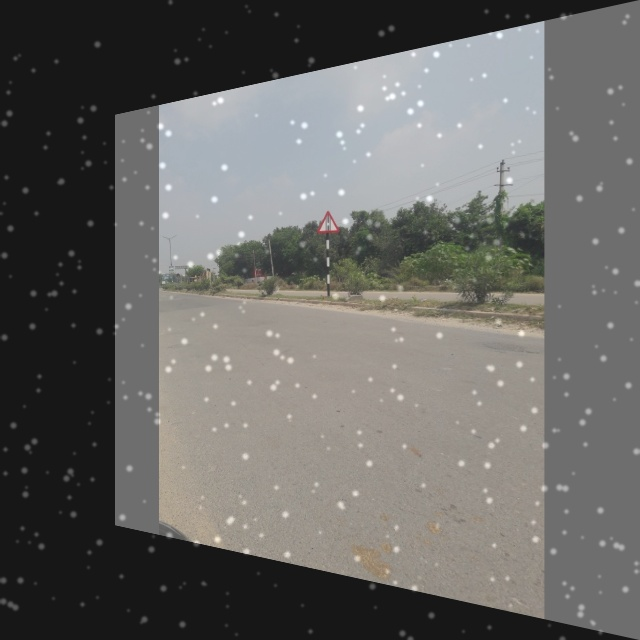Gap_in_Median: (312, 204, 345, 237)
